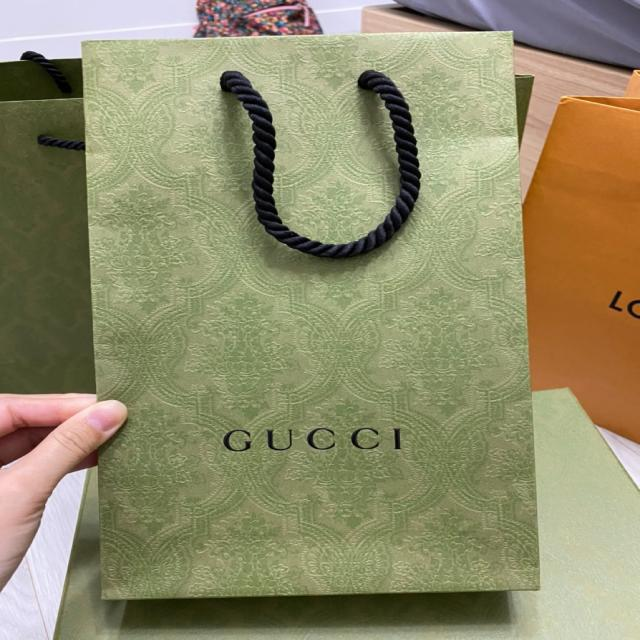paper bag: (76, 27, 552, 610)
